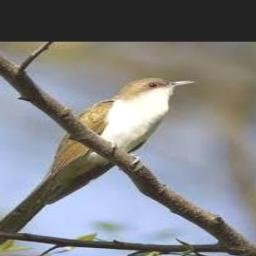Cuckoo: (0, 78, 197, 251)
